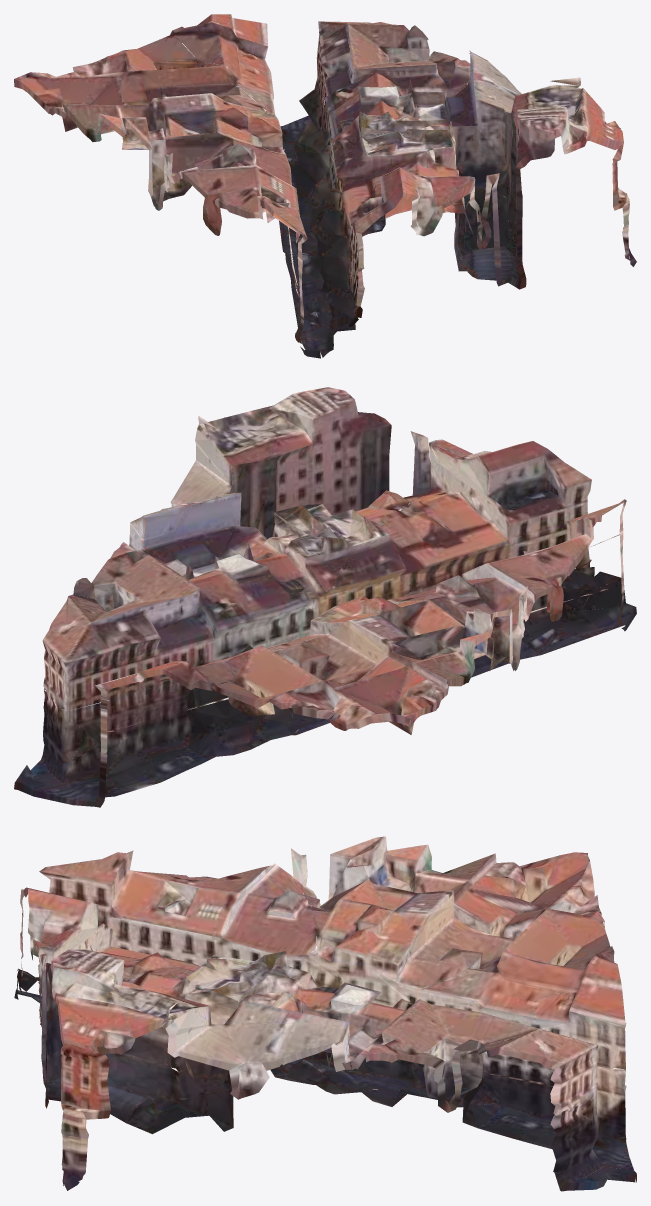
3 renders of one model, top to bottom at view 1: azimuth 30°, elevation 25°; view 2: azimuth 150°, elevation 25°; view 3: azimuth 270°, elevation 25°, orthographic. The views are drawn at different scales.
Visible parts, largest first — view 1: Mesh_0; view 2: Mesh_0; view 3: Mesh_0.
Part boxes in pixels (x1,y1,x2,y2): Mesh_0: (14, 14, 636, 358); Mesh_0: (14, 387, 636, 807); Mesh_0: (14, 836, 636, 1191).
Size of the model in its own units: 66.59 by 30.88 by 82.57.
Materials: 2 (2 with a texture image).
